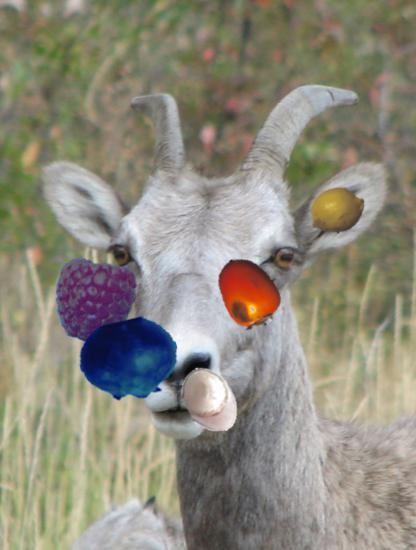Hazelnut: (175, 365, 246, 436)
Huckleberry: (80, 311, 179, 410)
Kaki: (213, 255, 287, 329)
Lemon: (309, 182, 367, 240)
Raspberry: (51, 257, 137, 343)
